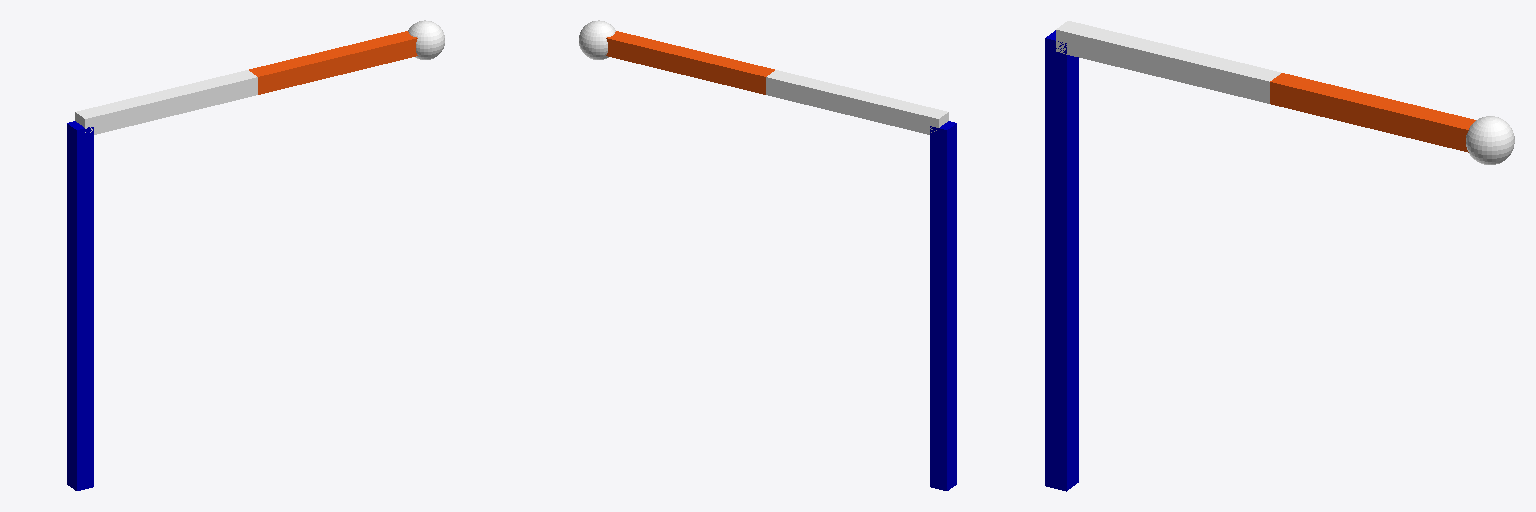
URDF robot description (myfirstrobot):
<?xml version="1.0"?> 
<robot name="myfirstrobot"> 
	<material name="blue"> 
		<color rgba="0 0 0.8 0.6"/> 
	</material> 

	<material name="white"> 
		<color rgba="1 1 1 0.6"/> 
	</material> 

	<material name="orange"> 
		<color rgba="1 0.4 0.1 0.6"/> 
	</material> 

	<!-- Base Link --> 
	<link name="base_link"> 
		<visual> 
			<geometry> 
				<box size="0.1 0.1 2"/> 
			</geometry> 
			<origin rpy="0 0 0" xyz="0 0 1"/> 
			<material name="blue"/> 
		</visual> 
		<collision> 
			<geometry> 
				<cylinder length="2" radius="0.2"/> 
			</geometry> 
			<origin rpy="0 0 0" xyz="0 0 1"/> 
		</collision> 
		<inertial> 
			<origin xyz="0 0 1" rpy="0 0 0"/> 
			<mass value="1"/> 
			<inertia
                ixx="0.3342" ixy="0.0" ixz="0.0"
                iyy="0.3342" iyz="0.0"
                izz="0.0017"/> 
		</inertial> 
	</link> 

	<joint name="joint1" type="continuous"> 
			<parent link="base_link"/> 
			<child link="middle_link"/> 
			<origin rpy="0 0 0" xyz="0 0 2"/> 
			<axis xyz="0 1 0"/> 
	</joint> 

	<link name="middle_link"> 
			<visual> 
				<geometry> 
					<box size="0.1 0.1 1"/> 
				</geometry> 
				<origin rpy="0 1.57075 0" xyz="0.5 0 0"/> 
				<material 		name="white"/> 
			</visual> 
			<collision> 
				<geometry> 
					<cylinder length="1" radius="0.2"/> 
				</geometry> 
				<origin rpy="0 1.57075 0" xyz="0.5 0 0"/> 
			</collision> 
			<inertial> 
				<origin xyz="0.5 0 0" rpy="0 0 0"/> 
				<mass value="1"/> 
				<inertia
                ixx="0.0017" ixy="0.0" ixz="0.0"
                iyy="0.085" iyz="0.0"
                izz="0.085"/> 
			</inertial> 
		</link> 

	<joint name="joint2" type="continuous"> 
		<parent link="middle_link"/> 
		<child link="top_link"/> 
		<origin rpy="0 0 0" xyz="1 0 0"/> 
		<axis xyz="0 1 0"/> 
	</joint> 

	<link name="top_link"> 
		<visual> 
			<geometry> 
				<box size="0.1 0.1 1"/> 
			</geometry> 
			<origin rpy="0 1.57075 0" xyz="0.5 0 0"/> 
			<material name="orange"/> 
		</visual> 
		<collision> 
			<geometry> 
				<cylinder length="1" radius="0.2"/> 
			</geometry> 
			<origin rpy="0 1.57075 0" xyz="0.5 0 0"/> 
		</collision> 
		<inertial> 
			<origin xyz="0.5 0 0" rpy="0 0 0"/> 
			<mass value="1"/> 
			<inertia
                ixx="0.0017" ixy="0.0" ixz="0.0"
                iyy="0.085" iyz="0.0"
                izz="0.085"/> 
		</inertial> 
	</link> 

	<joint name="end" type="revolute"> 
		<axis xyz="1 0 0"/> 
		<limit effort="1000.0" lower="0.0" upper="0.548" velocity="0.5"/> 
		<parent link="top_link"/> 
		<child link="end_link"/> 
		<origin rpy="0 0 0" xyz="1 0 0"/> 
	</joint> 

	<link name="end_link"> 
		<visual> 
			<geometry> 
				<sphere radius="0.1"/> 
			</geometry> 
			<material name="white"/> 
		</visual> 
		<collision> 
			<geometry> 
				<sphere radius="0.15"/> 
			</geometry> 
		</collision> 
		<inertial> 
			<origin xyz="0 0 0" rpy="0 0 0"/> 
			<mass value="1"/> 
			<inertia
                ixx="0.0017" ixy="0.0" ixz="0.0"
                iyy="0.0017" iyz="0.0"
                izz="0.0017"/> 
		</inertial> 
	</link> 
</robot>

--- What the picture shows (computed from the rendered views, not written in the file) ---
3 views of the same robot in one strip: view 1: azimuth 30°, elevation 25°; view 2: azimuth 150°, elevation 25°; view 3: azimuth 330°, elevation 25° (orthographic).
Model myfirstrobot with 4 links and 3 joints (1 revolute, 2 continuous), rooted at base_link, posed every joint at zero.
Links seen in each view (by area): view 1: base_link, middle_link, top_link, end_link; view 2: base_link, middle_link, top_link, end_link; view 3: base_link, middle_link, top_link, end_link.
Boxes of the visible links, left/top/right/bottom form: base_link: left=67, top=121, right=93, bottom=490; middle_link: left=75, top=70, right=257, bottom=134; top_link: left=249, top=31, right=417, bottom=94; end_link: left=408, top=20, right=444, bottom=59; base_link: left=930, top=121, right=956, bottom=490; middle_link: left=766, top=70, right=948, bottom=134; top_link: left=606, top=31, right=774, bottom=94; end_link: left=579, top=20, right=615, bottom=59; base_link: left=1045, top=30, right=1078, bottom=491; middle_link: left=1056, top=21, right=1280, bottom=103; top_link: left=1270, top=73, right=1475, bottom=152; end_link: left=1466, top=116, right=1514, bottom=164.
Bounding box of the posed robot: 2.15 × 0.2 × 2.1 m (x, y, z).
Geometry: primitives only (box / cylinder / sphere), no mesh files.